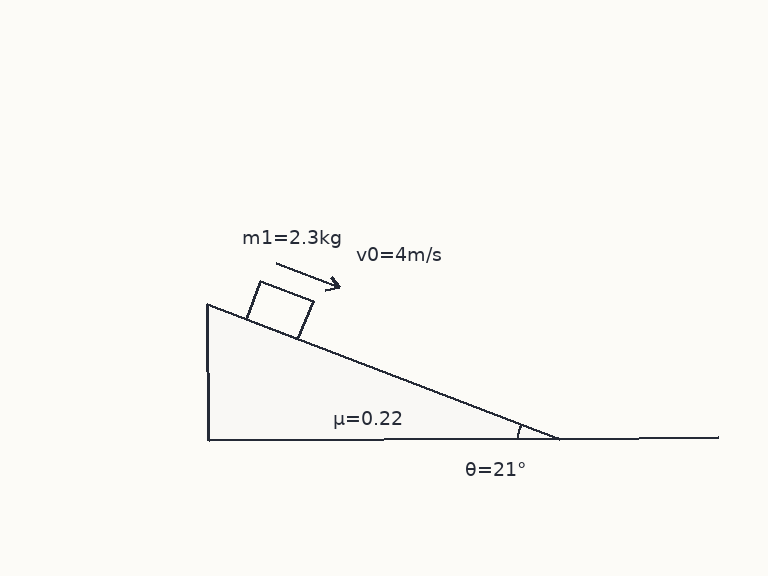block: (244, 279, 314, 341)
ramp: (205, 302, 560, 441)
